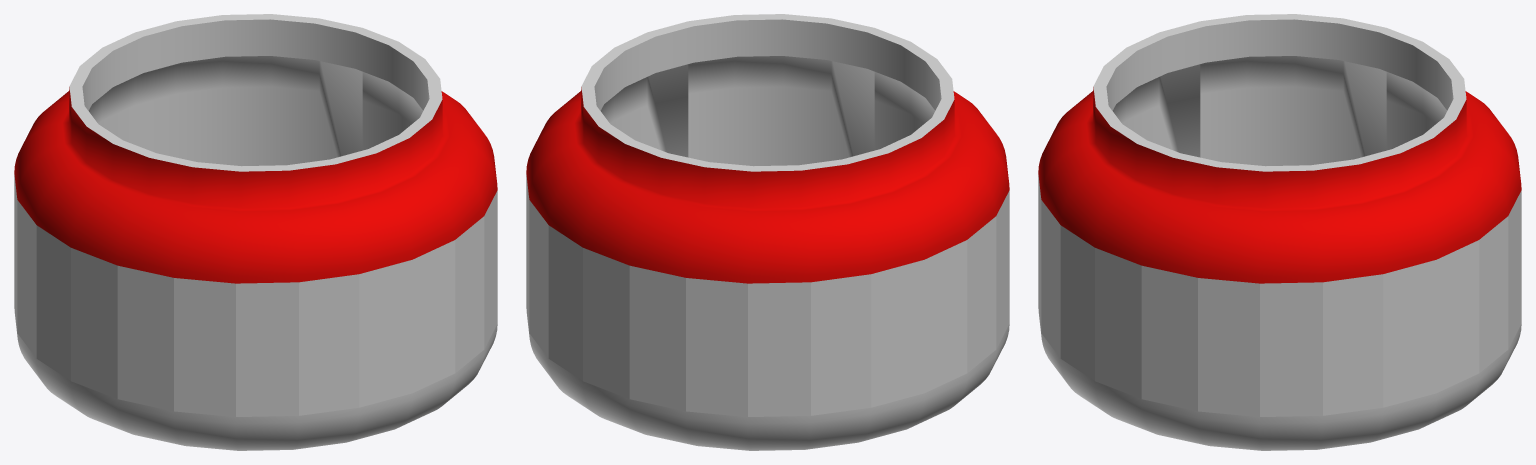
File: fix_scene 6h.fbx
The picture shows the model from 3 angles, left to right: view 1: azimuth 30°, elevation 25°; view 2: azimuth 150°, elevation 25°; view 3: azimuth 270°, elevation 25°; orthographic projection.
Parts seen in each view (by area): view 1: 1.008, 1.009; view 2: 1.008, 1.009; view 3: 1.008, 1.009.
Part boxes in pixels (x1,y1,x2,y2): 1.008: (14, 14, 497, 450); 1.009: (14, 87, 497, 283); 1.008: (526, 14, 1009, 450); 1.009: (526, 87, 1009, 283); 1.008: (1038, 14, 1521, 450); 1.009: (1038, 87, 1521, 283).
Size of the model in its own units: 296 by 185 by 296.
